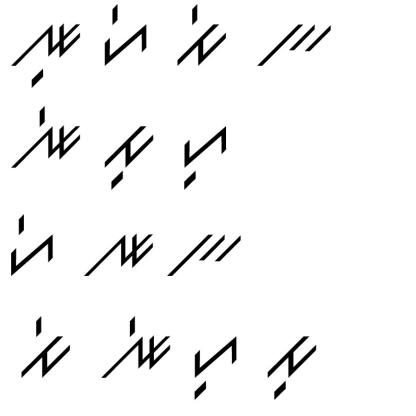he: (7, 213, 63, 278), (100, 1, 154, 67)
hu: (172, 124, 242, 195), (186, 333, 242, 403)
mbe: (11, 311, 81, 385), (168, 5, 233, 75)
mbu: (262, 327, 326, 401), (99, 116, 157, 190)
nda: (76, 222, 156, 281)
nde: (96, 311, 174, 385), (10, 103, 91, 171)
ndu: (8, 18, 84, 93)
